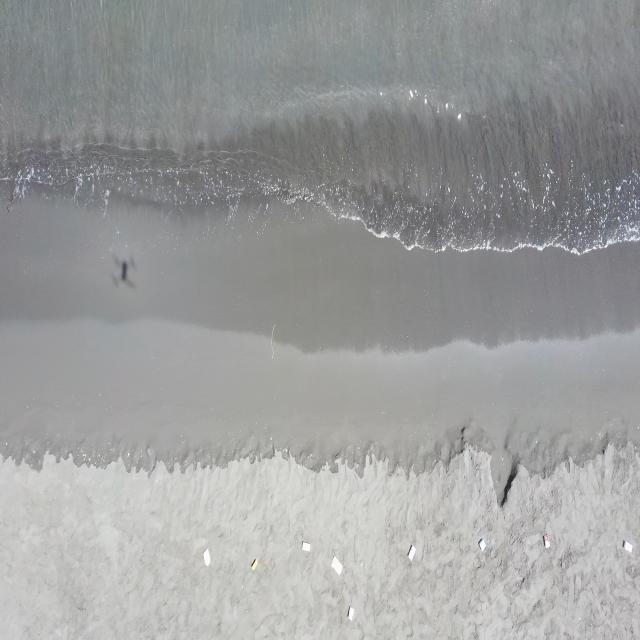retort-pouch: (330, 554, 344, 577), (406, 544, 417, 562), (622, 540, 634, 554), (301, 540, 312, 554), (347, 605, 355, 624), (542, 533, 551, 549), (478, 538, 487, 552), (251, 559, 259, 571)
